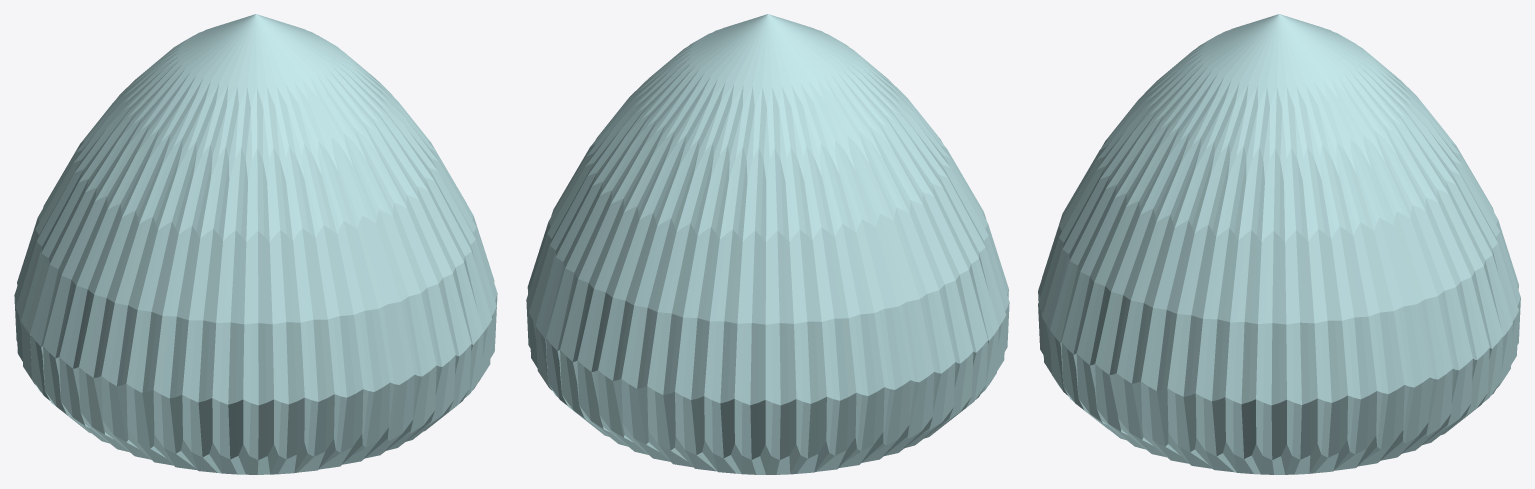
Rendered from animation3.gltf.
The picture shows the model from 3 angles, left to right: view 1: azimuth 30°, elevation 25°; view 2: azimuth 150°, elevation 25°; view 3: azimuth 270°, elevation 25°; orthographic projection.
Visible parts, largest first — view 1: Cone; view 2: Cone; view 3: Cone.
Boxes of the visible parts, x1,y1,x2,y2 form: Cone: (14,14,497,474); Cone: (526,14,1009,474); Cone: (1038,14,1520,474).
Bounding box in the file's own units: 1 × 0.9945 × 1.
